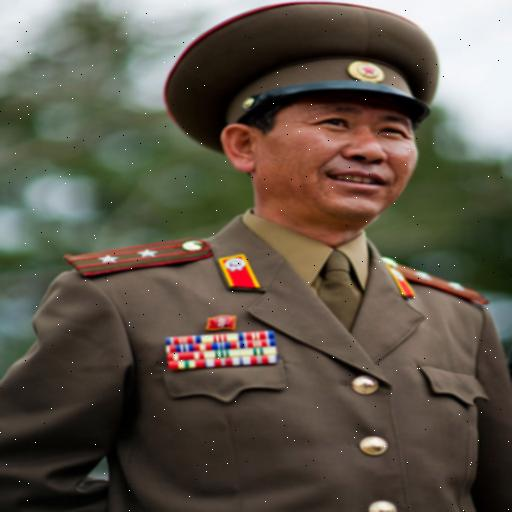north army: (60, 33, 480, 512)
